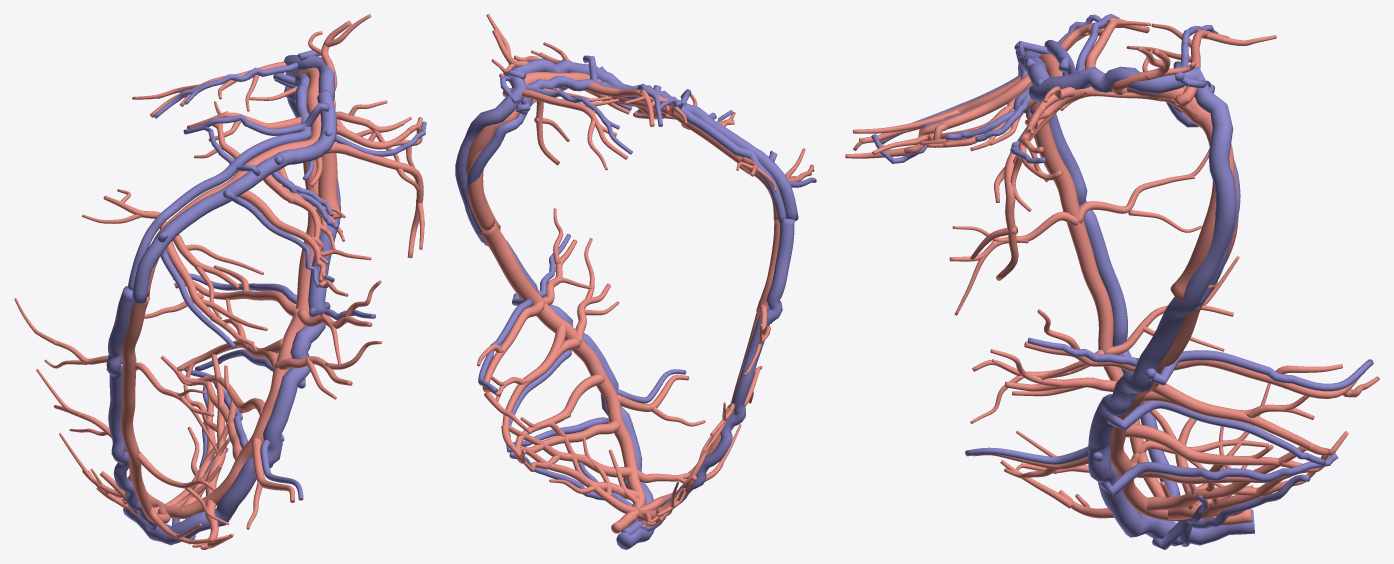
Rendered from vessels_34.glb.
3 renders of one model, left to right at view 1: azimuth 30°, elevation 25°; view 2: azimuth 150°, elevation 25°; view 3: azimuth 270°, elevation 25°, orthographic. The views are drawn at different scales.
Visible parts, largest first — view 1: Renderer Node; view 2: Renderer Node; view 3: Renderer Node.
Boxes of the visible parts, left/top/right/bottom form: Renderer Node: left=14, top=14, right=426, bottom=549; Renderer Node: left=455, top=14, right=816, bottom=549; Renderer Node: left=845, top=14, right=1379, bottom=549.
Size of the model in its own units: 82.83 by 114 by 90.83.
